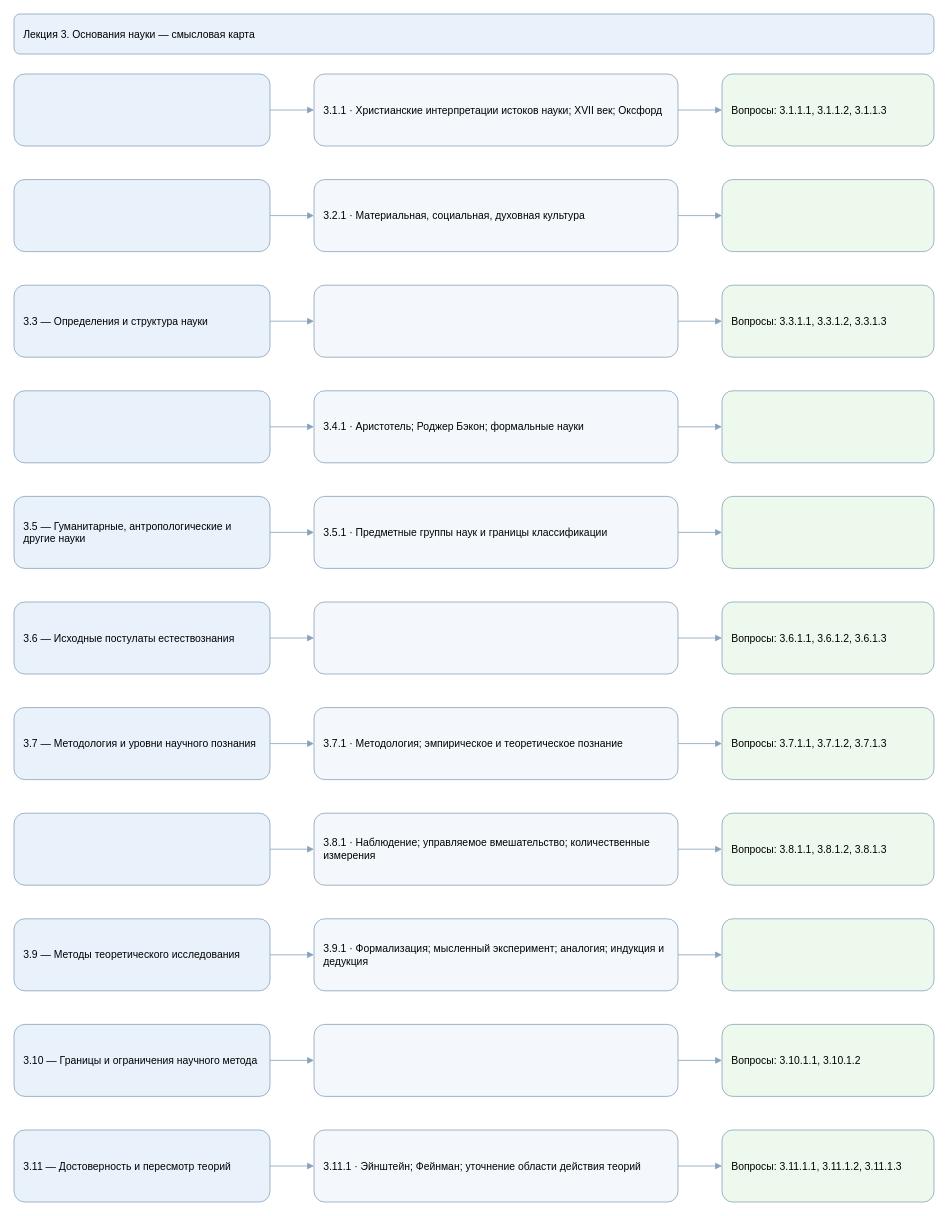
This 948x1216 diagram has some shape labels left out. The centre of each missing label's shape, as x and y in pixels:
"3.1 — Историко-философские основания науки" goes at point 141,109.
"3.10.1 · Конечность опыта; культурные условия; метод как инструмент" goes at point 495,1060.
"3.2 — Наука как часть духовной культуры" goes at point 141,215.
"3.3.1 · Субъект науки; определения; формы научного знания" goes at point 495,320.
"3.4 — Классификации научного знания" goes at point 141,426.
"3.6.1 · Реальность мира; закономерность; взаимодополняемые модели" goes at point 495,637.
"3.8 — Наблюдение, эксперимент, измерение" goes at point 141,848.
"Вопросы: 3.2.1.1, 3.2.1.2, 3.2.1.3" goes at point 827,215.
"Вопросы: 3.4.1.1, 3.4.1.2, 3.4.1.3" goes at point 827,426.
"Вопросы: 3.5.1.1, 3.5.1.2, 3.5.1.3" goes at point 827,532.
"Вопросы: 3.9.1.1, 3.9.1.2, 3.9.1.3, 3.9.1.4" goes at point 827,954.
